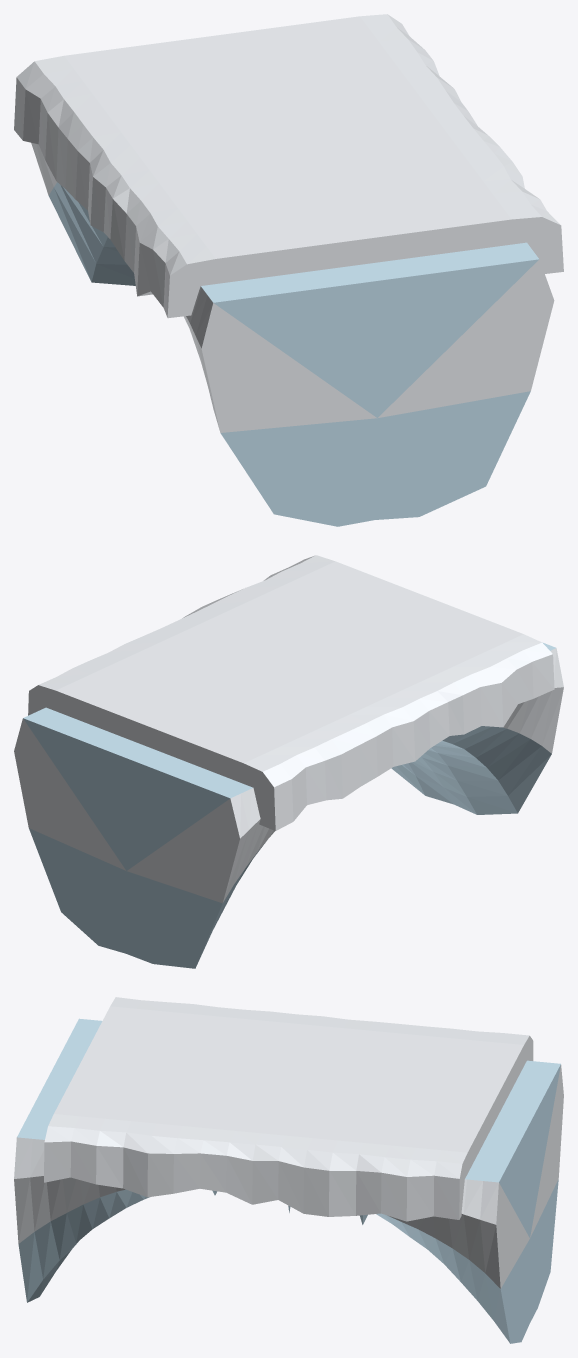
3 renders of one model, top to bottom at view 1: azimuth 30°, elevation 25°; view 2: azimuth 150°, elevation 25°; view 3: azimuth 270°, elevation 25°, orthographic. The views are drawn at different scales.
Visible parts, largest first — view 1: Mesh_L2A_SnowArch_34; view 2: Mesh_L2A_SnowArch_34; view 3: Mesh_L2A_SnowArch_34.
Boxes of the visible parts, x1,y1,x2,y2 form: Mesh_L2A_SnowArch_34: (14,14,563,526); Mesh_L2A_SnowArch_34: (14,555,563,968); Mesh_L2A_SnowArch_34: (14,997,563,1343).
Size of the model in its own units: 9.14 by 5.31 by 11.81.
